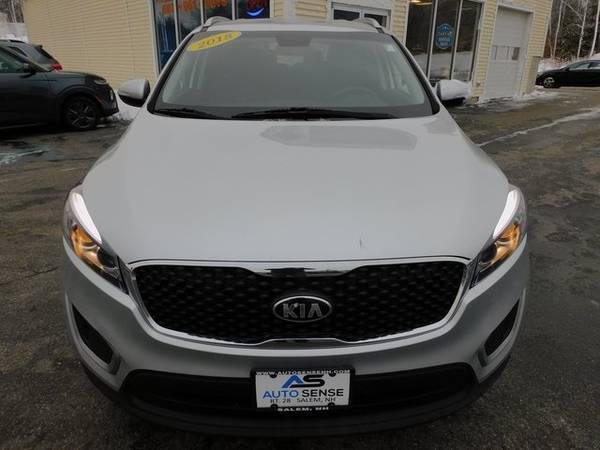Front_Bumper: (61, 237, 530, 433)
Front_Windshield: (146, 30, 439, 123)
Grille: (120, 256, 468, 349)
Hood: (82, 110, 508, 268)
Left_Headlight: (464, 185, 525, 291)
Left_Mirror: (438, 79, 470, 104)
Right_Headlight: (59, 188, 127, 297)
Right_Mirror: (115, 76, 147, 108)
